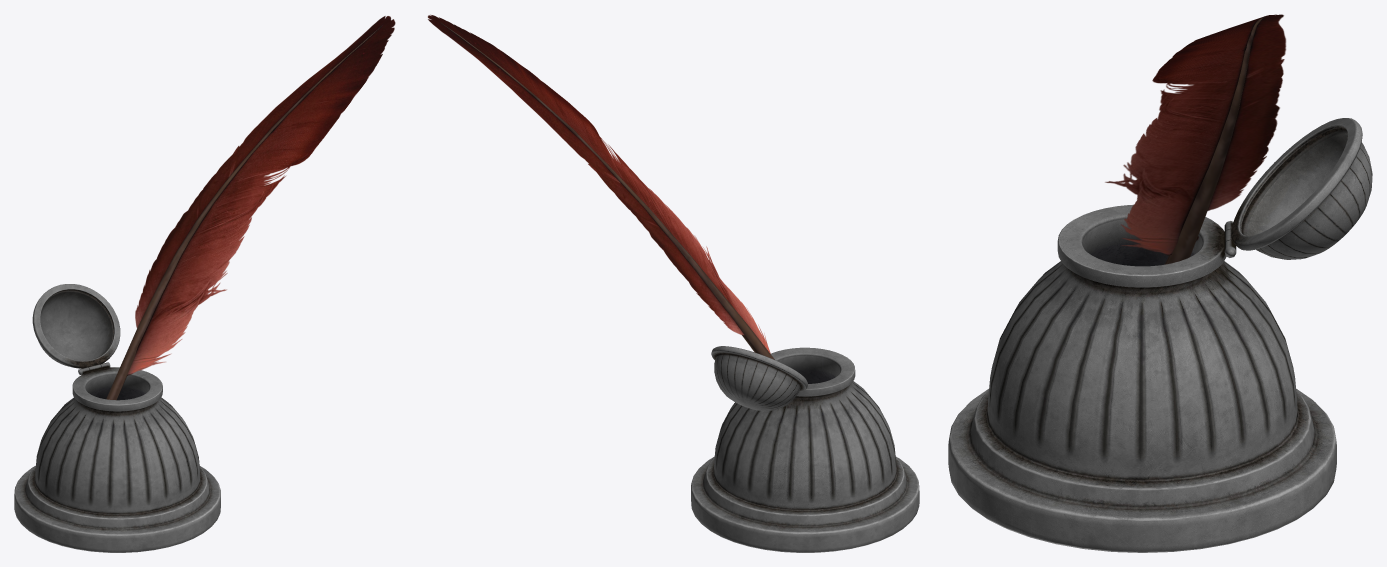
3 views of the same model, side by side, from view 1: azimuth 30°, elevation 25°; view 2: azimuth 150°, elevation 25°; view 3: azimuth 270°, elevation 25° (orthographic). The views are drawn at different scales.
Parts seen in each view (by area): view 1: Inkwell_2, Feather, Inkwell_3; view 2: Inkwell_2, Feather, Inkwell_3; view 3: Inkwell_2, Feather, Inkwell_3.
Boxes of the visible parts, x1=… form: Inkwell_2: x1=14, y1=367, x2=220, y2=552; Feather: x1=106, y1=16, x2=395, y2=400; Inkwell_3: x1=32, y1=284, x2=120, y2=368; Inkwell_2: x1=691, y1=347, x2=919, y2=552; Feather: x1=428, y1=14, x2=774, y2=359; Inkwell_3: x1=711, y1=346, x2=808, y2=411; Inkwell_2: x1=948, y1=204, x2=1336, y2=552; Feather: x1=1105, y1=14, x2=1286, y2=264; Inkwell_3: x1=1231, y1=118, x2=1372, y2=259.
Bounding box in the file's own units: 0.1571 × 0.1484 × 0.0771.
2 materials, 2 textured.
